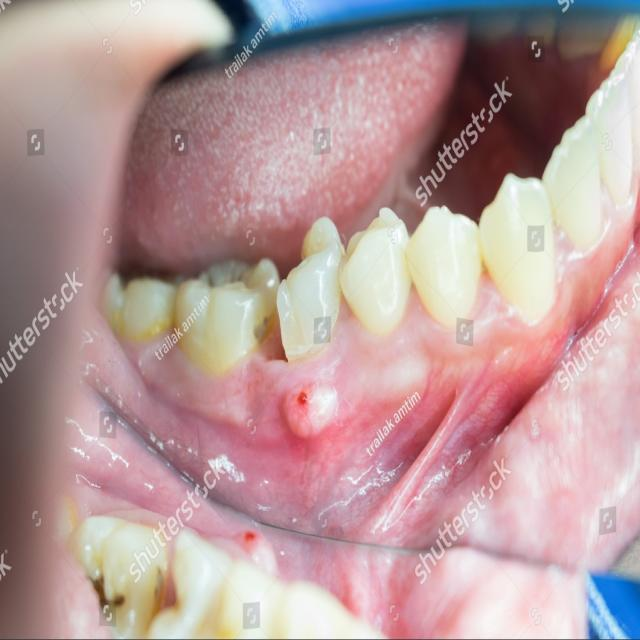abscess: (272, 370, 364, 486)
